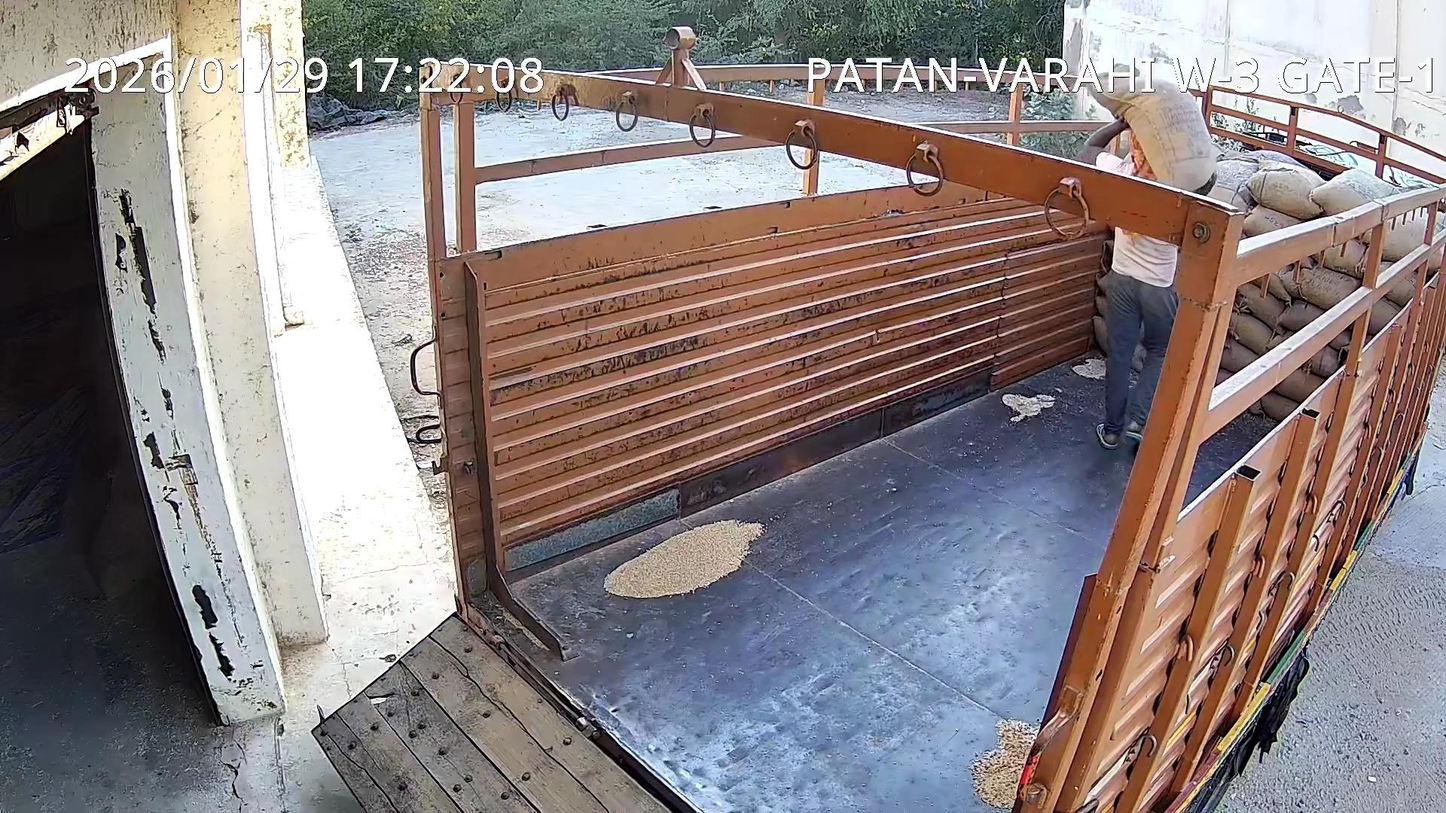Sack: (1090, 70, 1218, 191)
